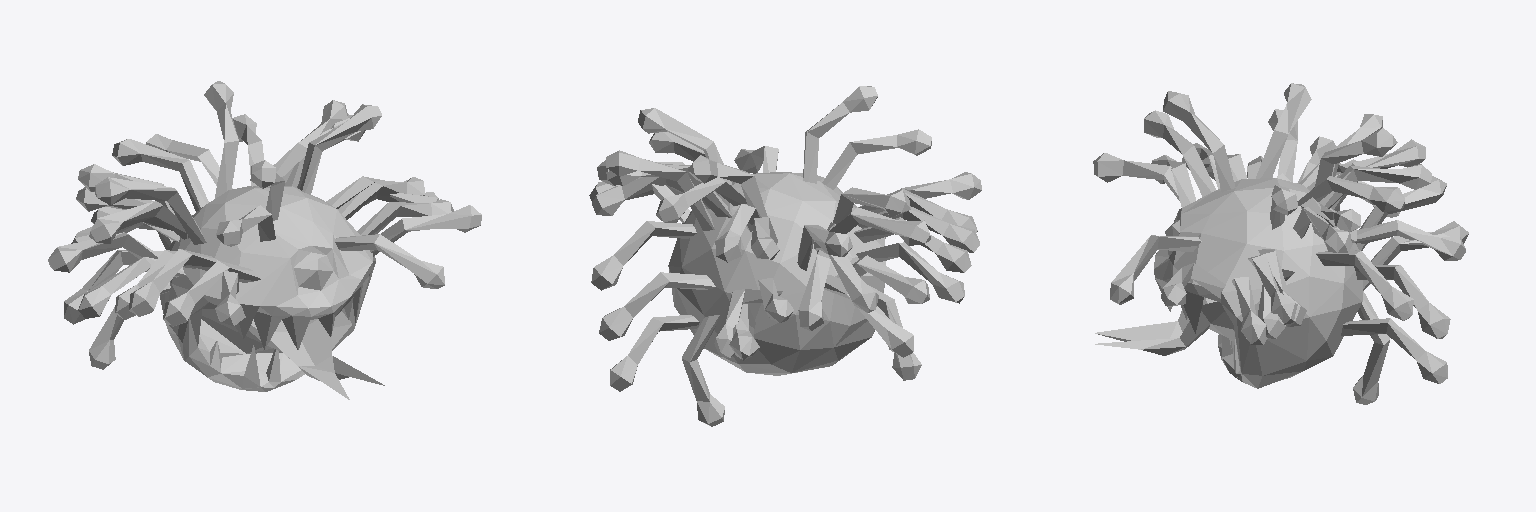
File: ugly.obj
3 views of the same model, side by side, from view 1: azimuth 30°, elevation 25°; view 2: azimuth 150°, elevation 25°; view 3: azimuth 270°, elevation 25° (orthographic).
Visible parts, largest first — view 1: Eyes, Head; view 2: Eyes, Head; view 3: Eyes, Head.
Boxes of the visible parts, <box> form: Eyes: <box>48,81,481,369</box>; Head: <box>160,186,384,399</box>; Eyes: <box>589,86,981,426</box>; Head: <box>668,172,885,375</box>; Eyes: <box>1093,83,1468,404</box>; Head: <box>1095,178,1362,388</box>.
Size of the model in its own units: 3.26 by 2.38 by 2.86.